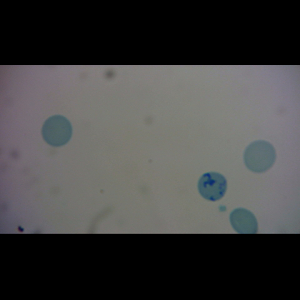aggregate reticulocyte: (197, 171, 228, 201)
erythrocyte: (243, 139, 276, 173), (41, 114, 73, 147), (229, 207, 259, 234)
